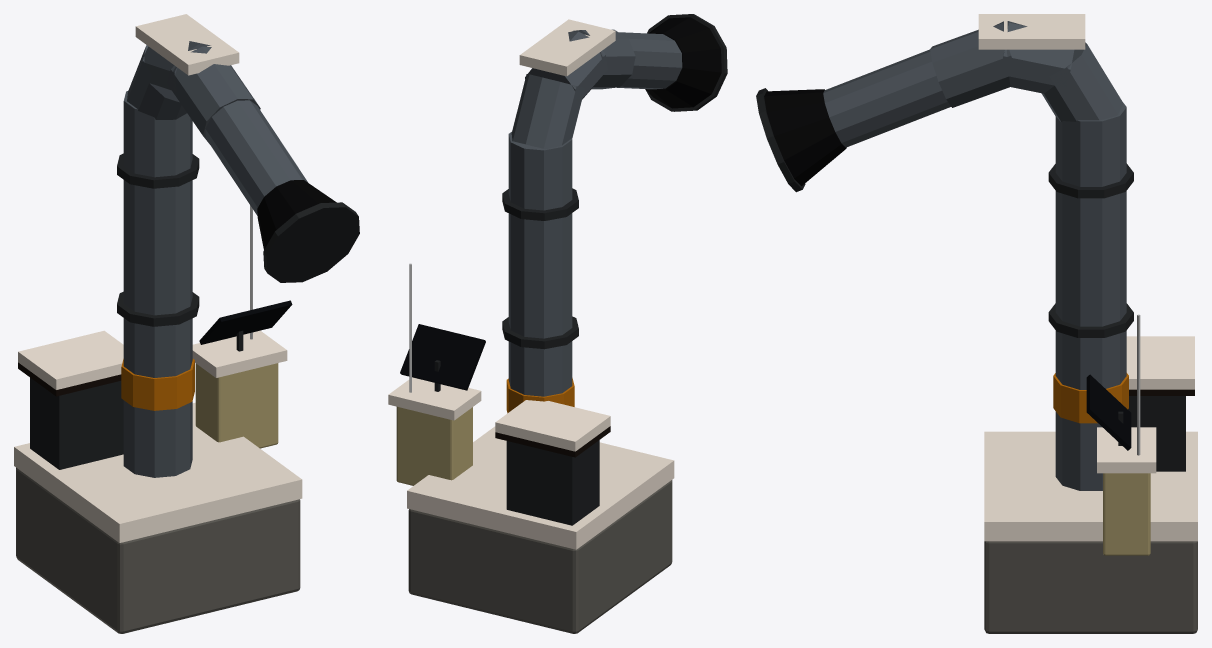
The model's file is rs_exploder.glb.
3 renders of one model, left to right at view 1: azimuth 30°, elevation 25°; view 2: azimuth 150°, elevation 25°; view 3: azimuth 270°, elevation 25°, orthographic. The views are drawn at different scales.
Visible parts, largest first — view 1: exploder; view 2: exploder; view 3: exploder.
Part boxes in pixels (x1,y1,x2,y2): exploder: [14, 14, 359, 633]; exploder: [388, 14, 727, 633]; exploder: [756, 14, 1197, 633].
Size of the model in its own units: 2.2 by 5.29 by 3.73.
